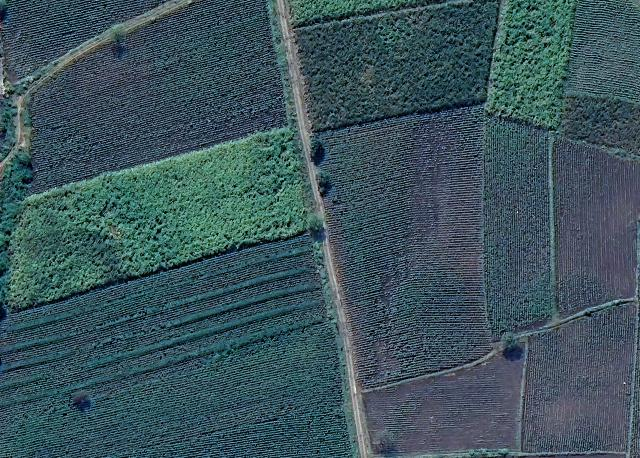Farms: (1, 228, 338, 407), (0, 0, 289, 208), (0, 125, 318, 312), (314, 102, 489, 394), (1, 324, 354, 458), (292, 0, 501, 134), (363, 339, 526, 458), (523, 301, 639, 455), (0, 0, 172, 92), (553, 131, 639, 314), (486, 115, 555, 340), (487, 0, 576, 139), (569, 1, 639, 103), (564, 96, 640, 160)
